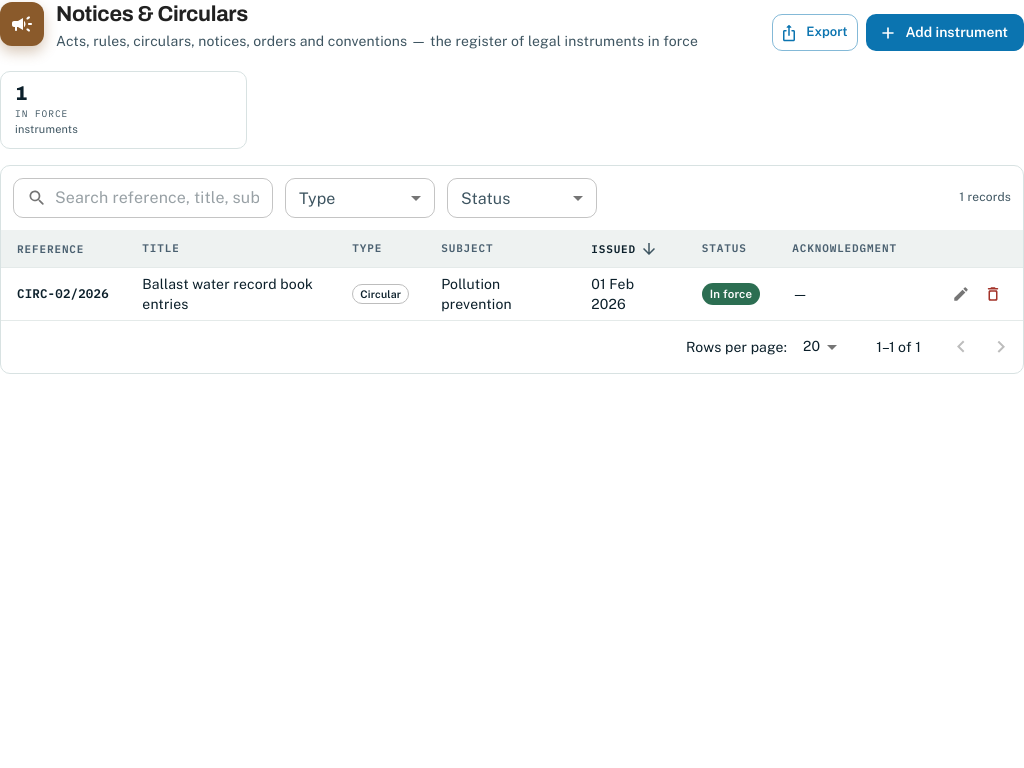
Test: the notice library and the portal › labels the type from the master and hands the desk the public address and the citation of an in-force instrument
Expected: the text "Circular" is shown, [360,288,401,300]
Click the text "Ballast water record book entries": (231, 294) [126,267,336,320]
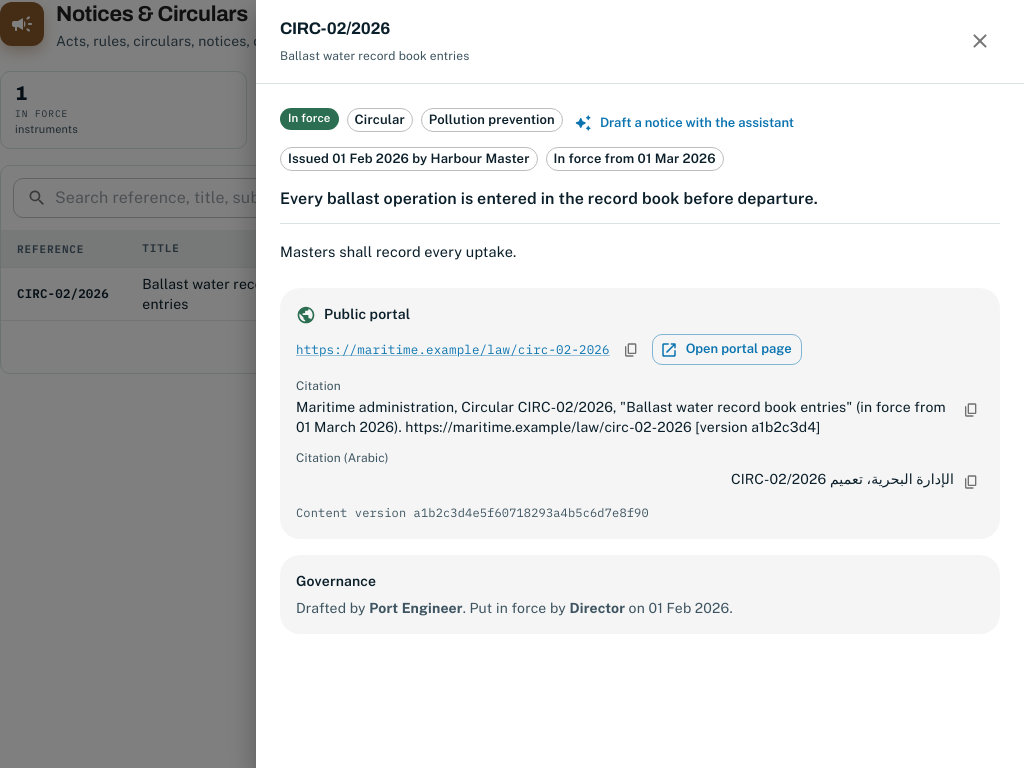
Expected: the text "Circular CIRC-02/2026, \"Ballast water record book entries\"" is shown, [296,399,946,435]
Expected: the text "Content version a1b2c3d4e5f60718293a4b5c6d7e8f90" is shown, [296,505,649,520]
Expected: the button "Open portal page" is shown, [652,334,802,365]
